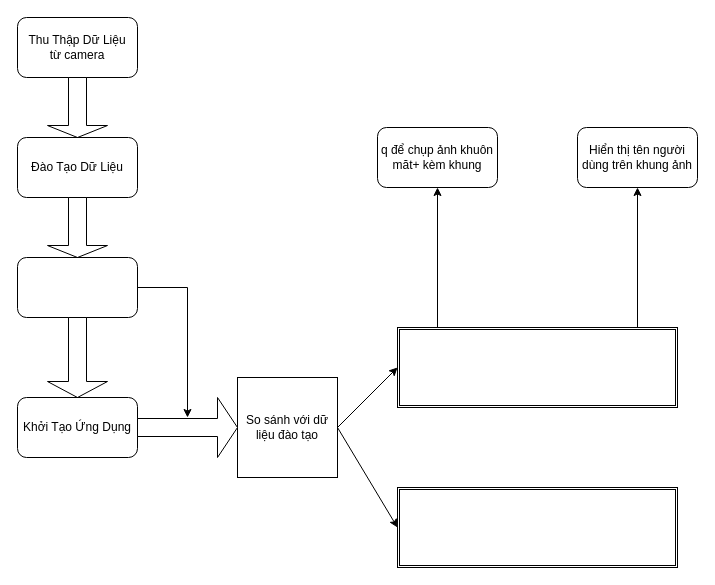
The diagram is 715 pixels wide and 585 high, and some of its shapes have lost their labels. Each missing label, with the centre of its shape:
<50% so với dữ liệu đã đào tạo: (537,527)
>50% so với dữ liệu đã đào tạo: (537,367)
Trả về dữ liệu luyện tập: (77,287)
